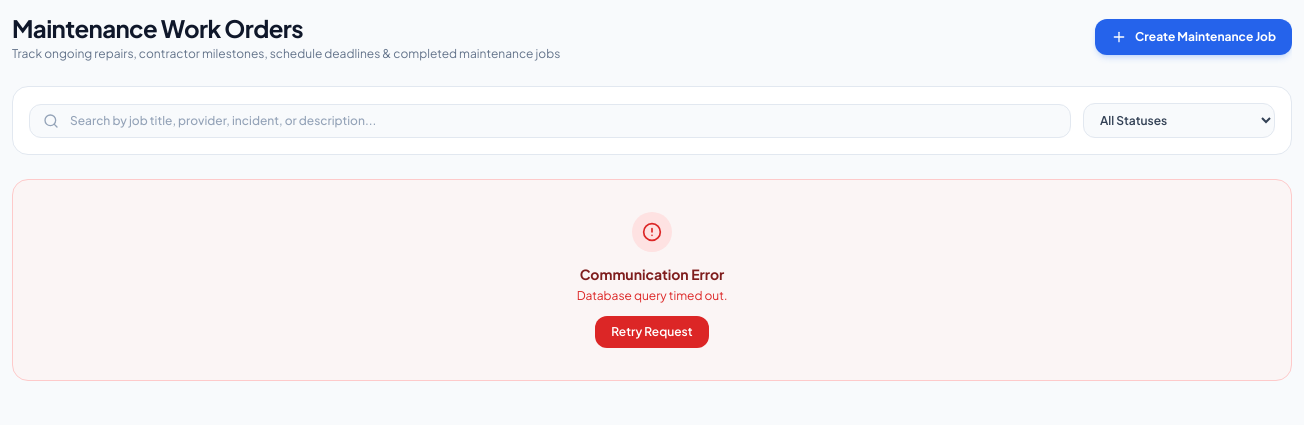
Scenario: MaintenanceJobListPage › displays error state and retries fetching on user retry action
Expected: the text "Database query timed out." is shown, [577, 288, 727, 304]
Click the button "Retry Request" at (652, 332), box [595, 316, 709, 348]
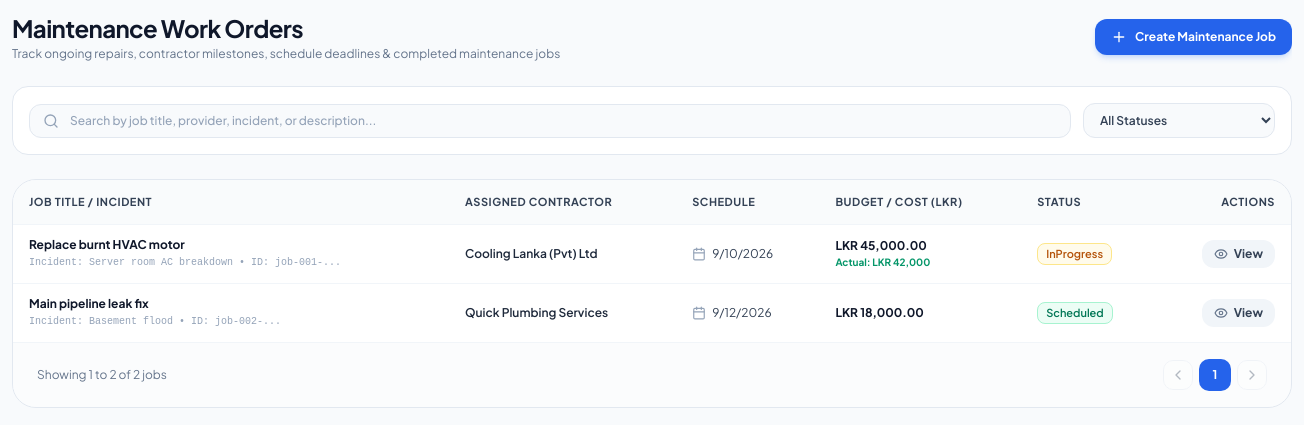
Now the text "Replace burnt HVAC motor" is shown, box [29, 237, 185, 252]
